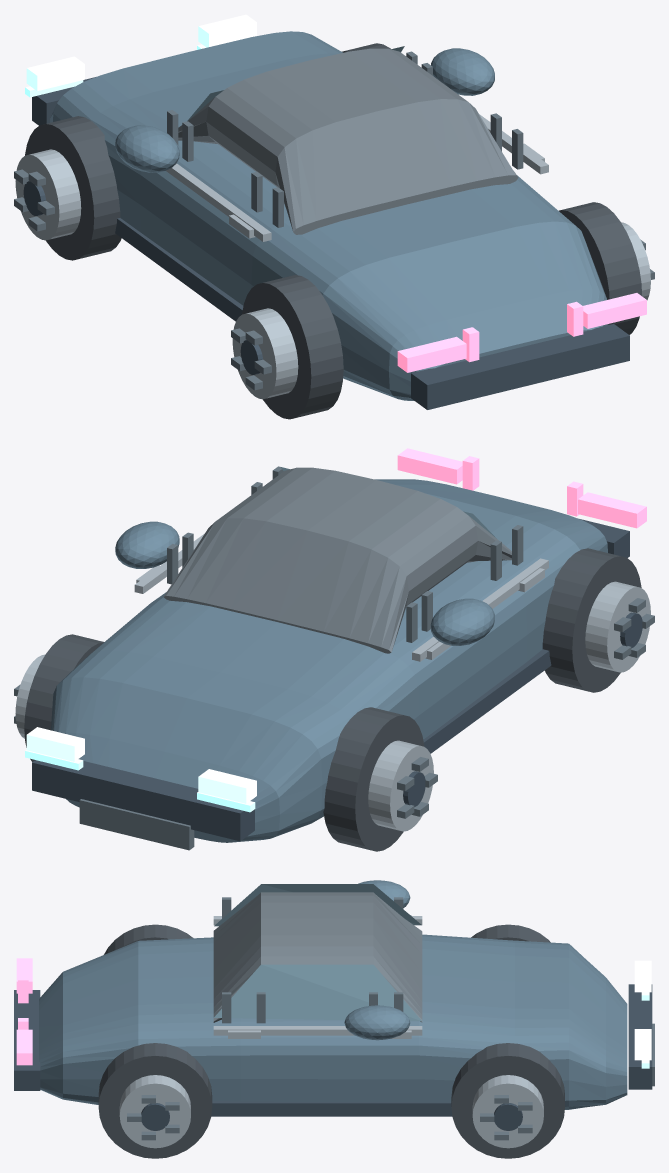
File: hatchback.glb
3 renders of one model, top to bottom at view 1: azimuth 30°, elevation 25°; view 2: azimuth 150°, elevation 25°; view 3: azimuth 270°, elevation 25°, orthographic. The views are drawn at different scales.
Parts seen in each view (by area): view 1: curved-monocoque-shell, cabin-and-roof, rubber, dark, alum, midnight, frame, red, headlight; view 2: curved-monocoque-shell, cabin-and-roof, rubber, dark, alum, frame, midnight, red, headlight, neon; view 3: curved-monocoque-shell, cabin-and-roof, rubber, glass, dark, alum, frame, midnight, red, headlight.
Boxes of the visible parts, bbox=[...] form: curved-monocoque-shell: bbox=[50, 31, 608, 400]; cabin-and-roof: bbox=[178, 48, 518, 234]; rubber: bbox=[25, 43, 642, 419]; dark: bbox=[23, 77, 629, 409]; alum: bbox=[15, 114, 650, 399]; midnight: bbox=[115, 48, 494, 172]; frame: bbox=[14, 51, 654, 390]; red: bbox=[397, 293, 646, 372]; headlight: bbox=[26, 14, 256, 91]; curved-monocoque-shell: bbox=[51, 479, 607, 842]; cabin-and-roof: bbox=[163, 467, 511, 653]; rubber: bbox=[24, 548, 641, 851]; dark: bbox=[32, 519, 642, 841]; alum: bbox=[15, 533, 650, 831]; frame: bbox=[14, 466, 654, 850]; midnight: bbox=[115, 521, 494, 645]; red: bbox=[397, 448, 646, 528]; headlight: bbox=[26, 727, 256, 803]; neon: bbox=[25, 750, 255, 812]; curved-monocoque-shell: bbox=[39, 934, 627, 1109]; cabin-and-roof: bbox=[213, 892, 422, 1022]; rubber: bbox=[98, 924, 564, 1158]; glass: bbox=[214, 884, 421, 1021]; dark: bbox=[14, 984, 652, 1130]; alum: bbox=[119, 915, 543, 1148]; frame: bbox=[127, 897, 654, 1140]; midnight: bbox=[344, 880, 410, 1040]; red: bbox=[16, 958, 32, 1065]; headlight: bbox=[634, 960, 651, 1060].
Bounding box in the file's own units: 2.78 × 1.46 × 4.85.
